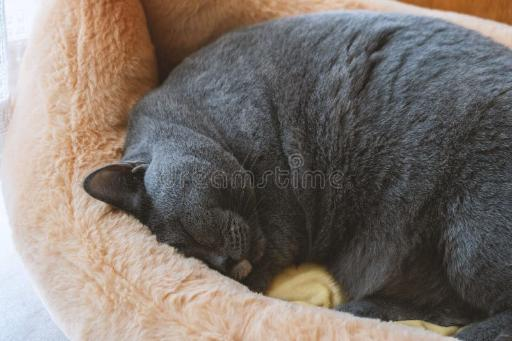cat_sleeping: (83, 11, 511, 340)
